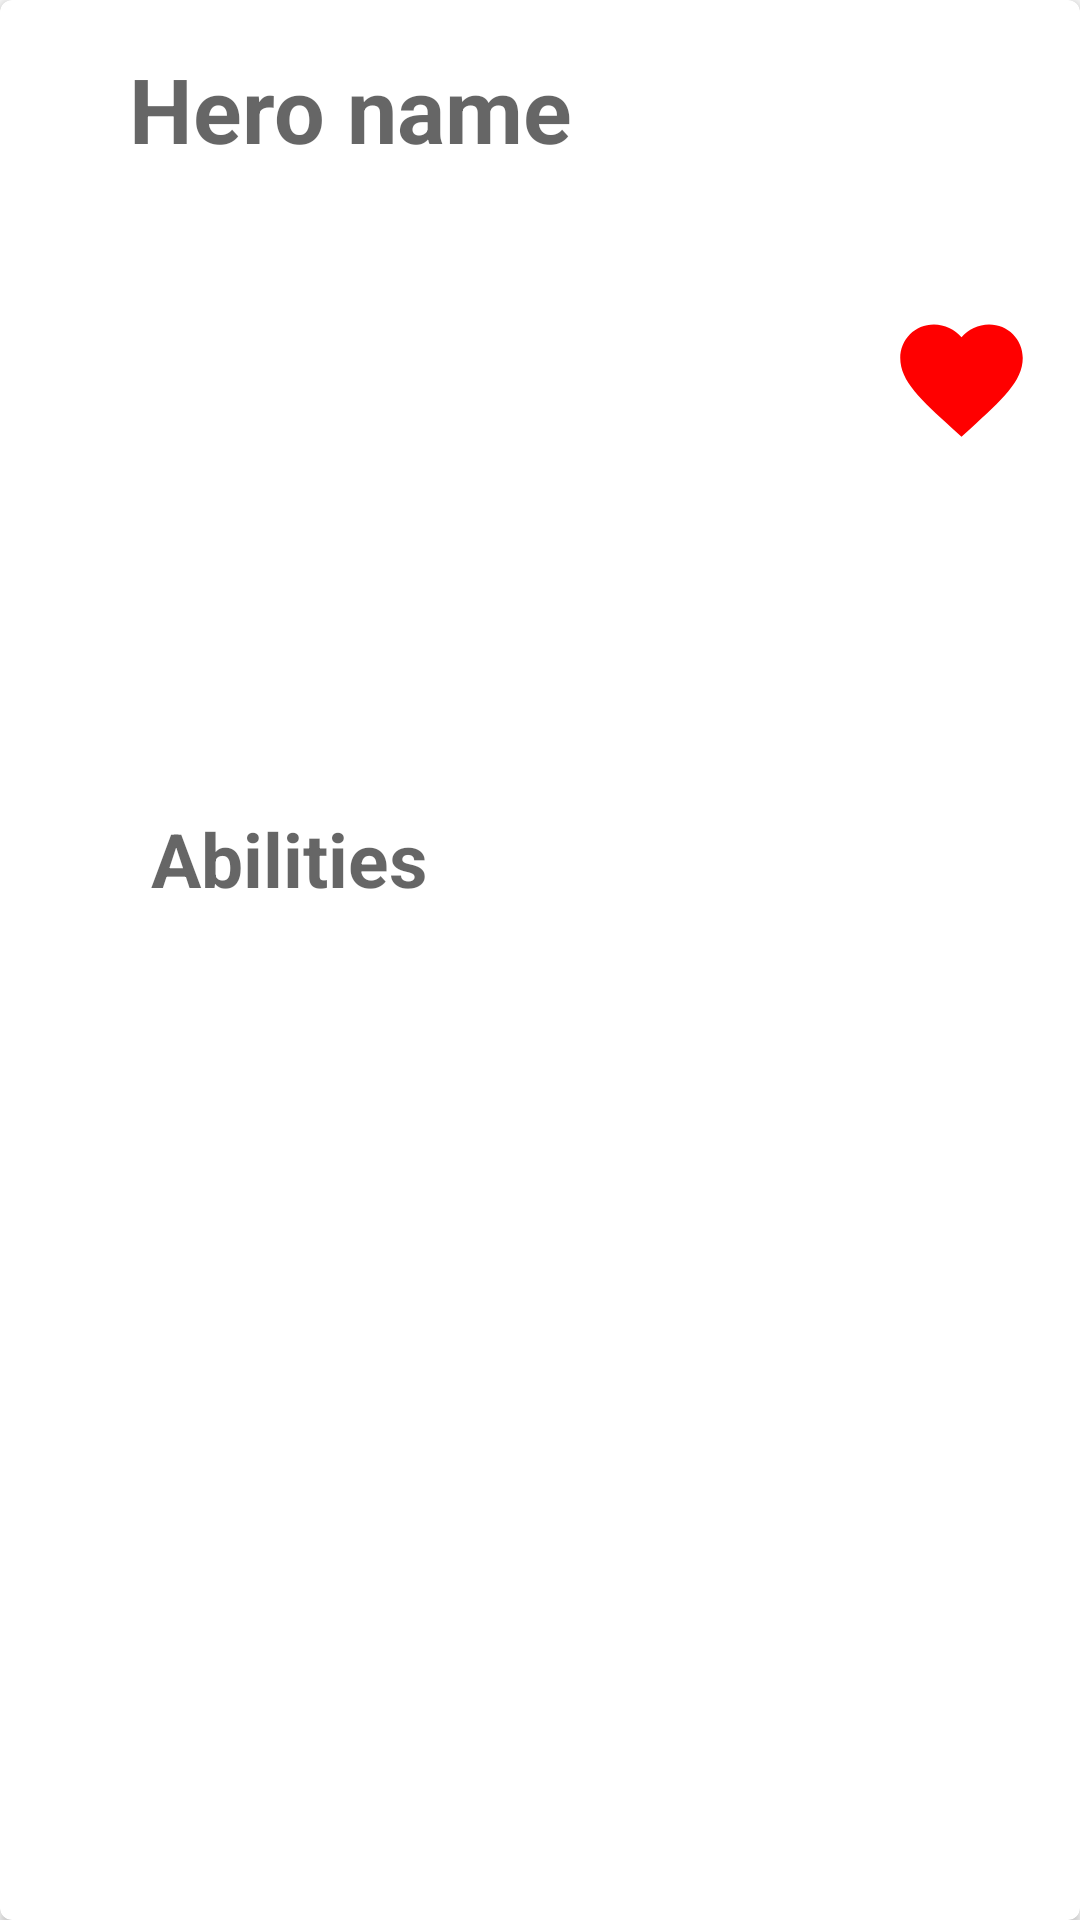

Icons on this 1080w x 1920h Android screen, each with the point to tap as point (x, y):
Favorite hero icon: point (961, 380)
